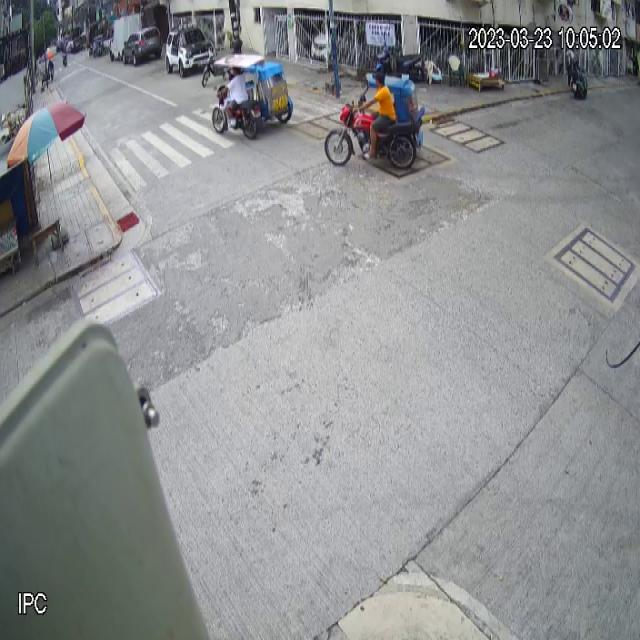Tricycle: (325, 72, 425, 172), (212, 53, 294, 140)
